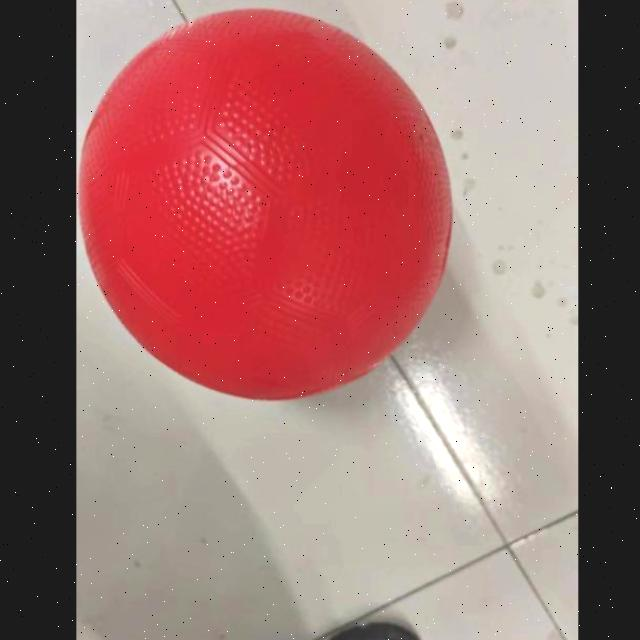R: (76, 0, 470, 408)
